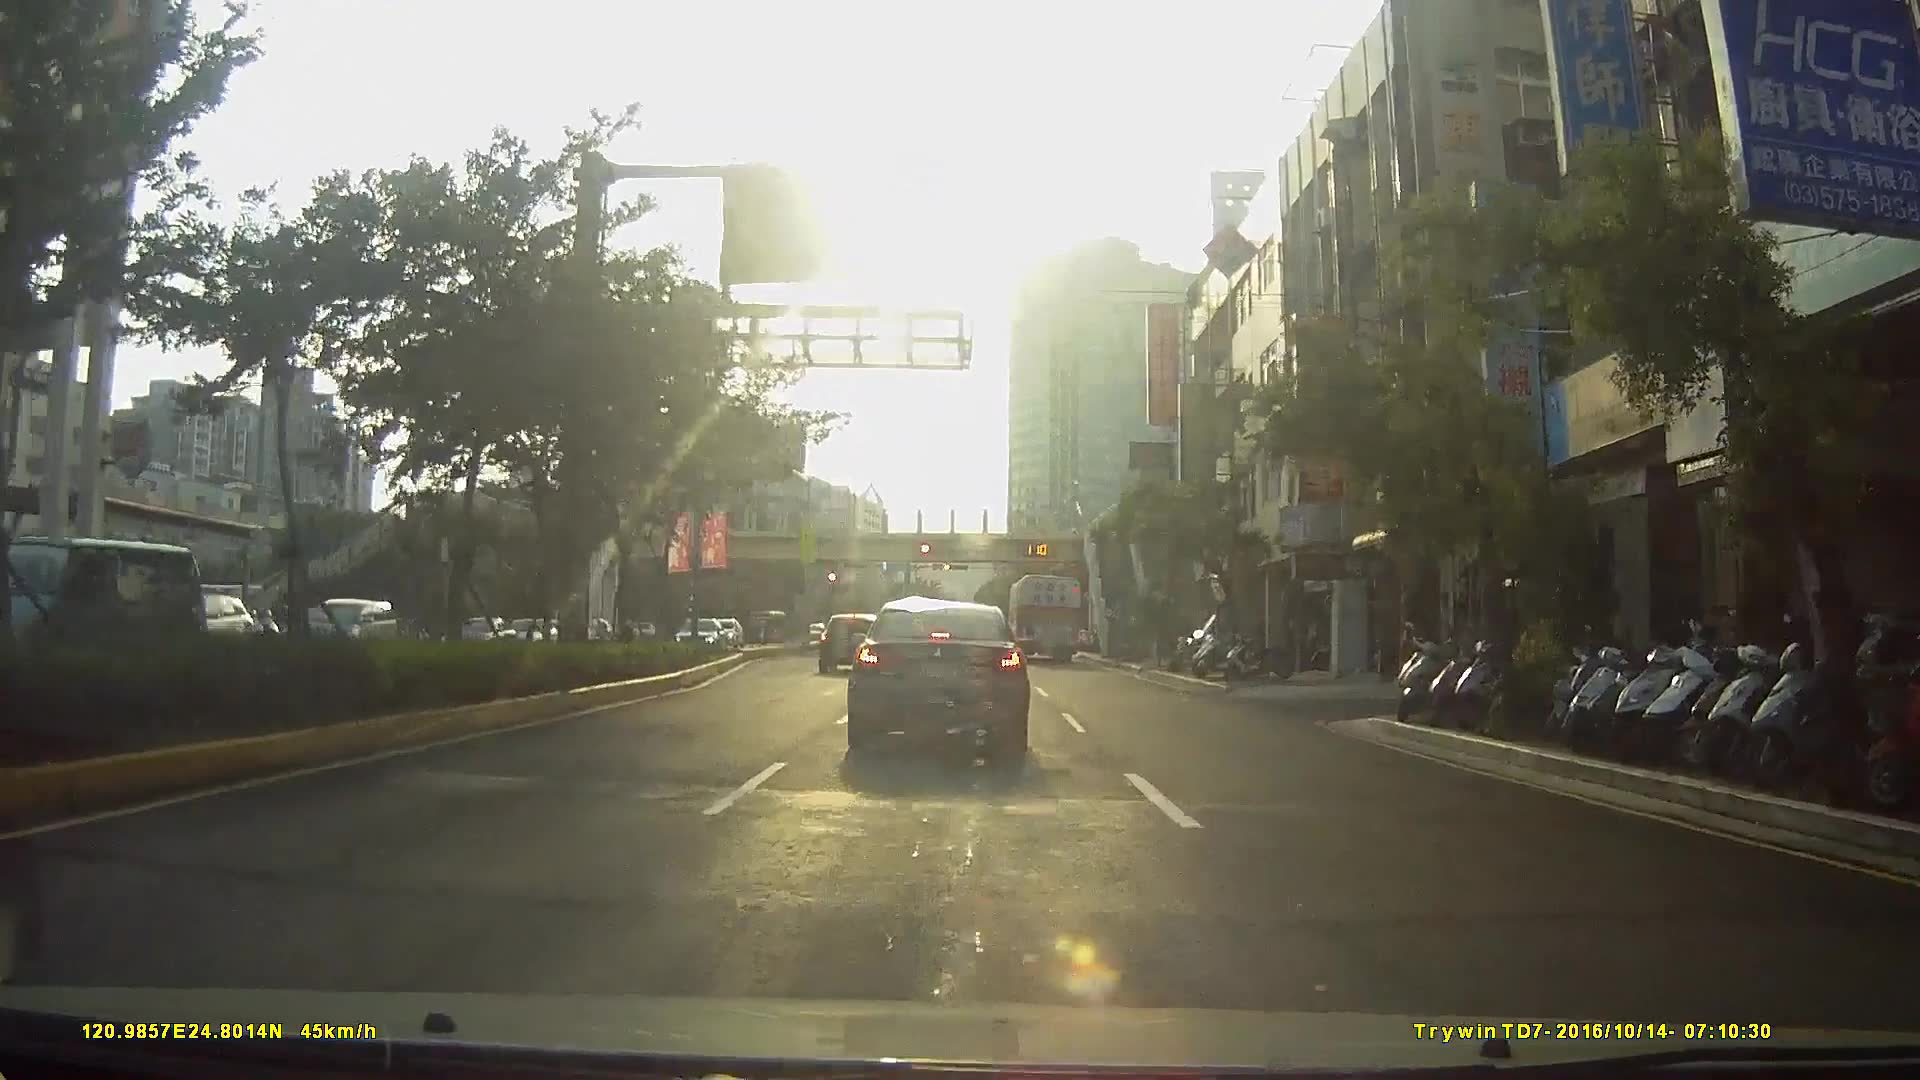vehicle: (1, 534, 212, 686), (844, 593, 1030, 757), (1005, 568, 1083, 665), (287, 593, 396, 657), (815, 607, 884, 675), (667, 612, 727, 653)
